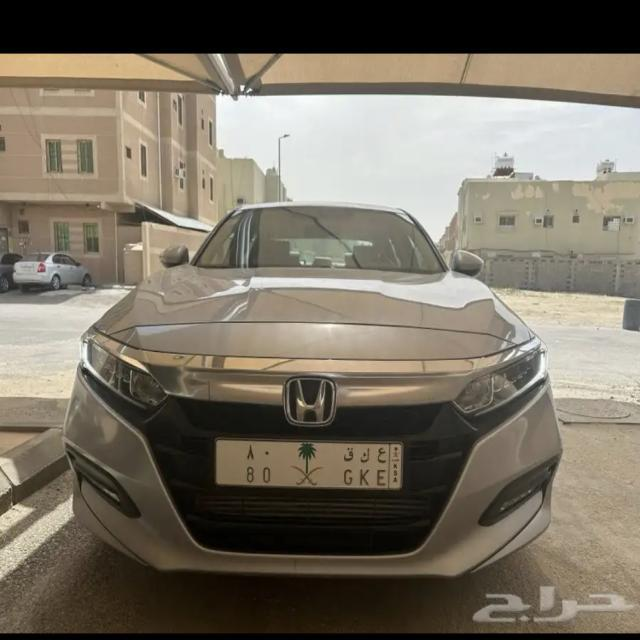license_plate: (216, 434, 408, 498)
